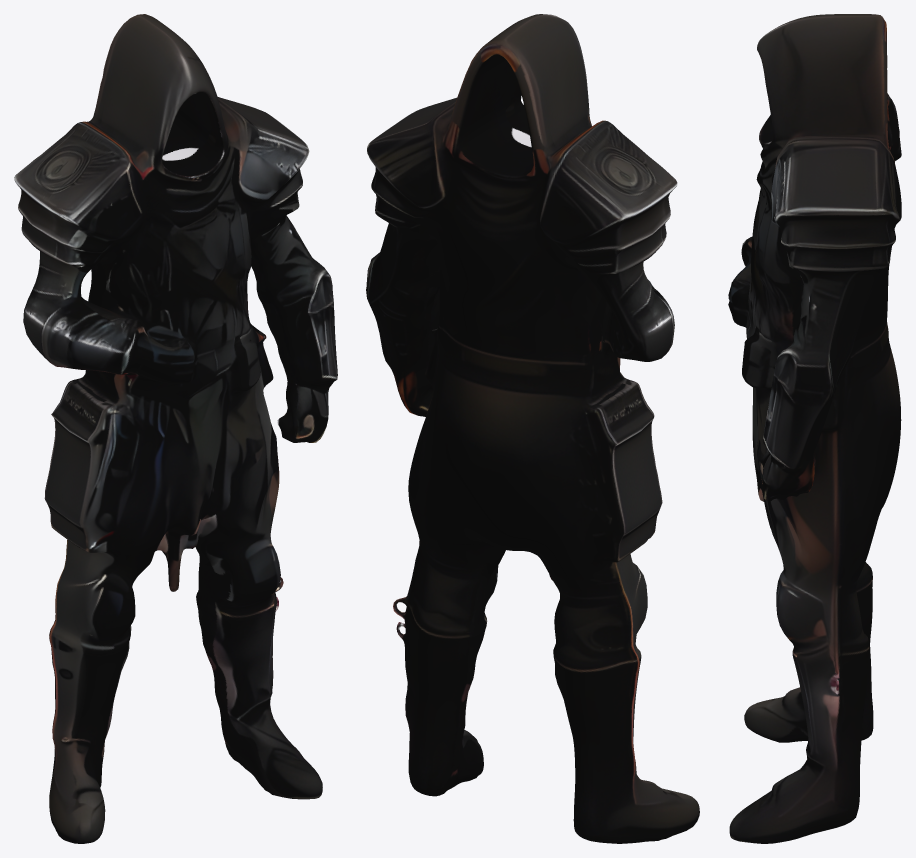
File: character_stalker.glb
3 renders of one model, left to right at view 1: azimuth 30°, elevation 25°; view 2: azimuth 150°, elevation 25°; view 3: azimuth 270°, elevation 25°, orthographic. The views are drawn at different scales.
Visible parts, largest first — view 1: model; view 2: model; view 3: model.
Part boxes in pixels (x1,y1,x2,y2): model: [14, 14, 337, 843]; model: [366, 14, 699, 843]; model: [728, 14, 901, 843].
Size of the model in its own units: 0.7437 by 1.9 by 0.3871.
1 material, 1 textured.
